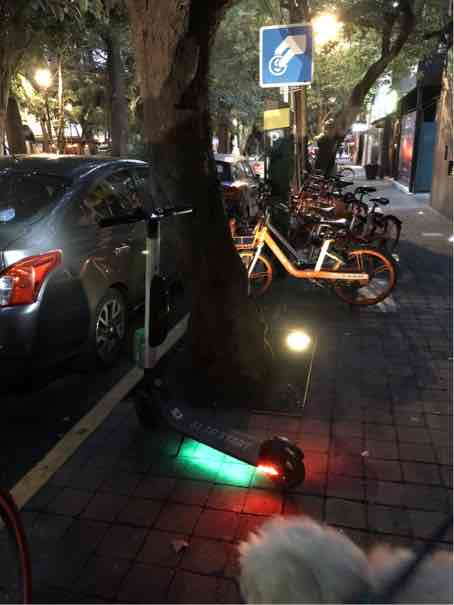scooter: (96, 195, 309, 496)
